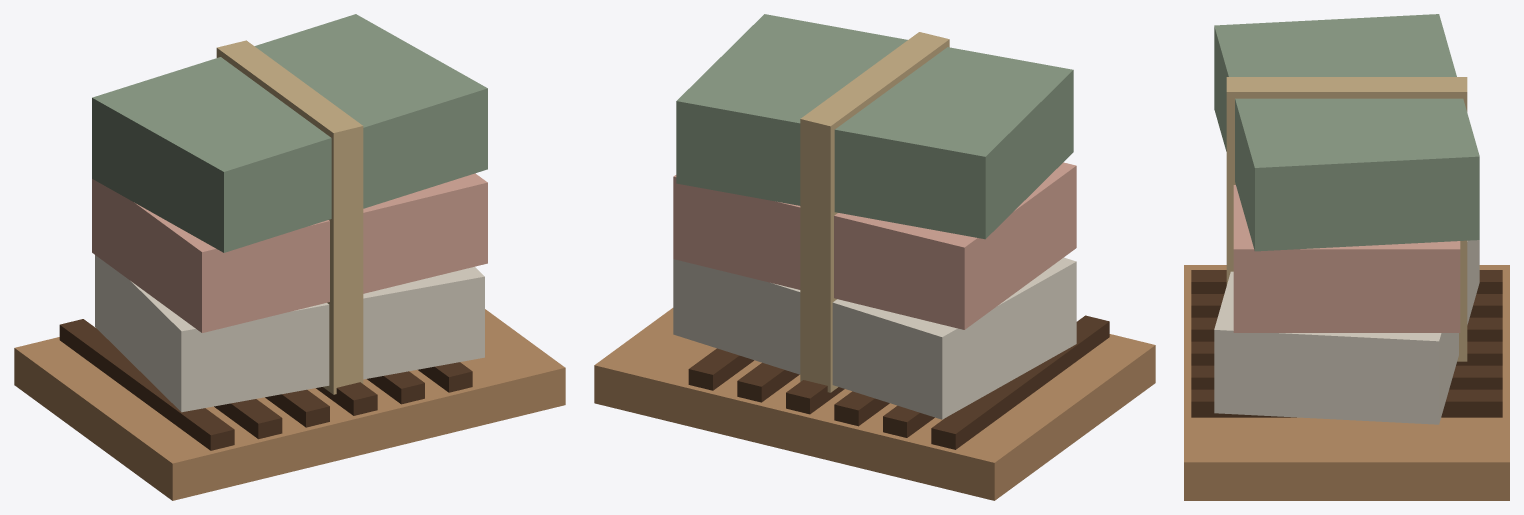
The model's file is natural_soap.glb.
The picture shows the model from 3 angles, left to right: view 1: azimuth 30°, elevation 25°; view 2: azimuth 150°, elevation 25°; view 3: azimuth 270°, elevation 25°; orthographic projection. The views are drawn at different scales.
Bounding box in the file's own units: 1.32 × 0.99 × 0.92.
